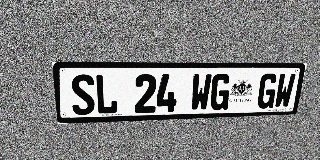2: (135, 74, 157, 113)
4: (156, 74, 178, 112)
G: (209, 74, 232, 110), (256, 73, 279, 109)
L: (95, 74, 118, 114)
S: (70, 74, 95, 115)
W: (190, 74, 212, 111), (273, 73, 296, 108)
